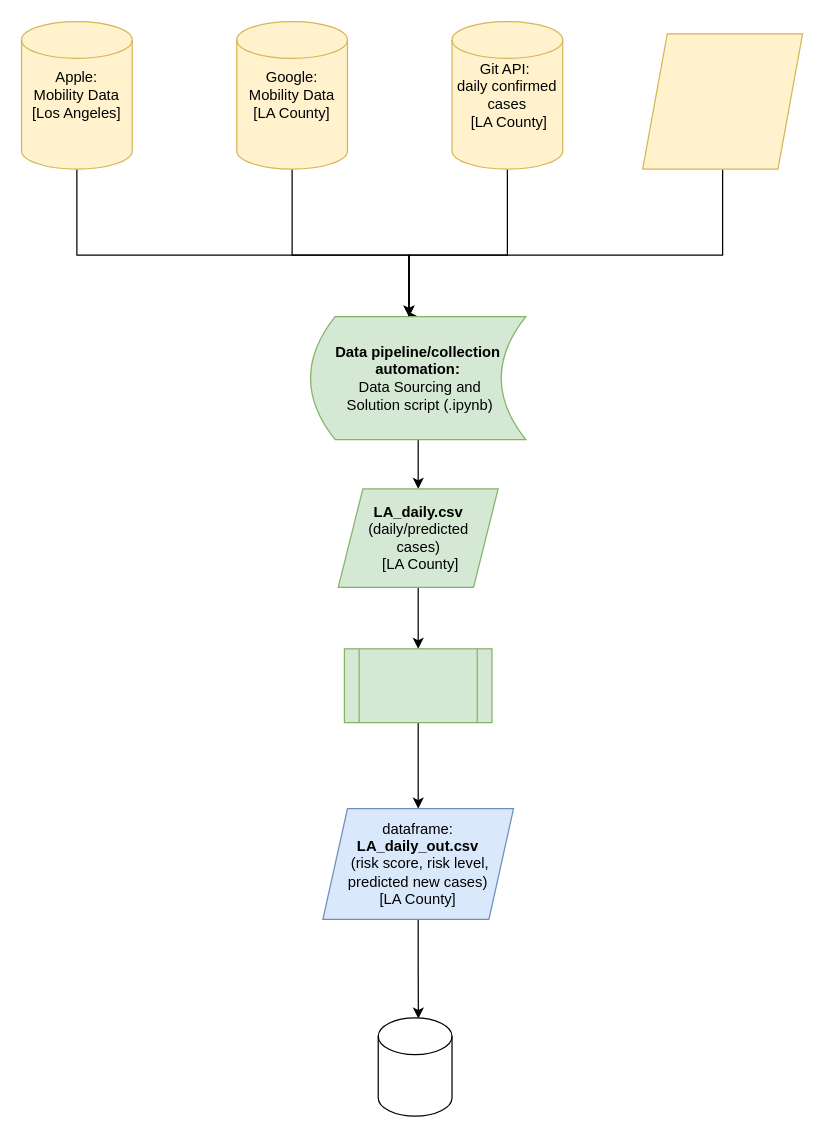
Image size: 824x1138. Some labels were removed from this diagram. The shapes that lost their labels are listed below. From the top down, each one's box as (x1, y1, x2, y2) in pixels, then its label:
(641, 33, 803, 169): Github repo: econ_level.csv [LA County population]
(343, 648, 492, 723): predictive analysis using LSTM model
(377, 1017, 452, 1116): IBM Cloud
